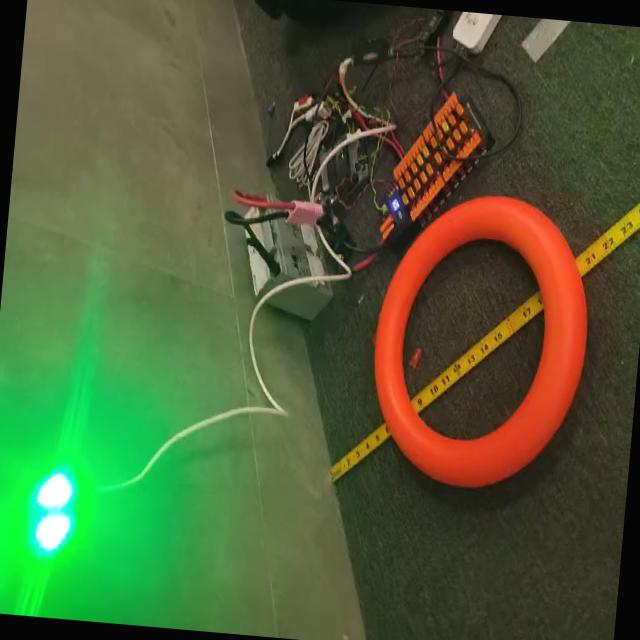note: (360, 185, 600, 498)
